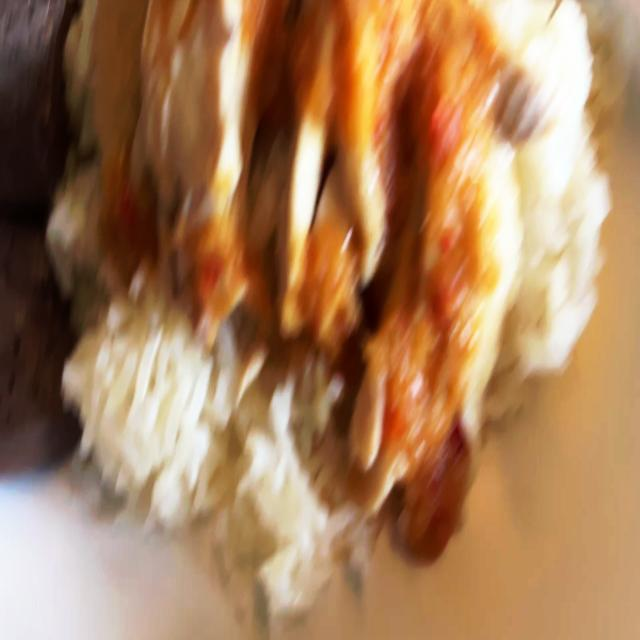boiled_chicken: (75, 0, 497, 527)
boiled_chicken_blood_jelly: (0, 184, 82, 467), (0, 0, 73, 218)
chicken_rice: (0, 0, 607, 640)
